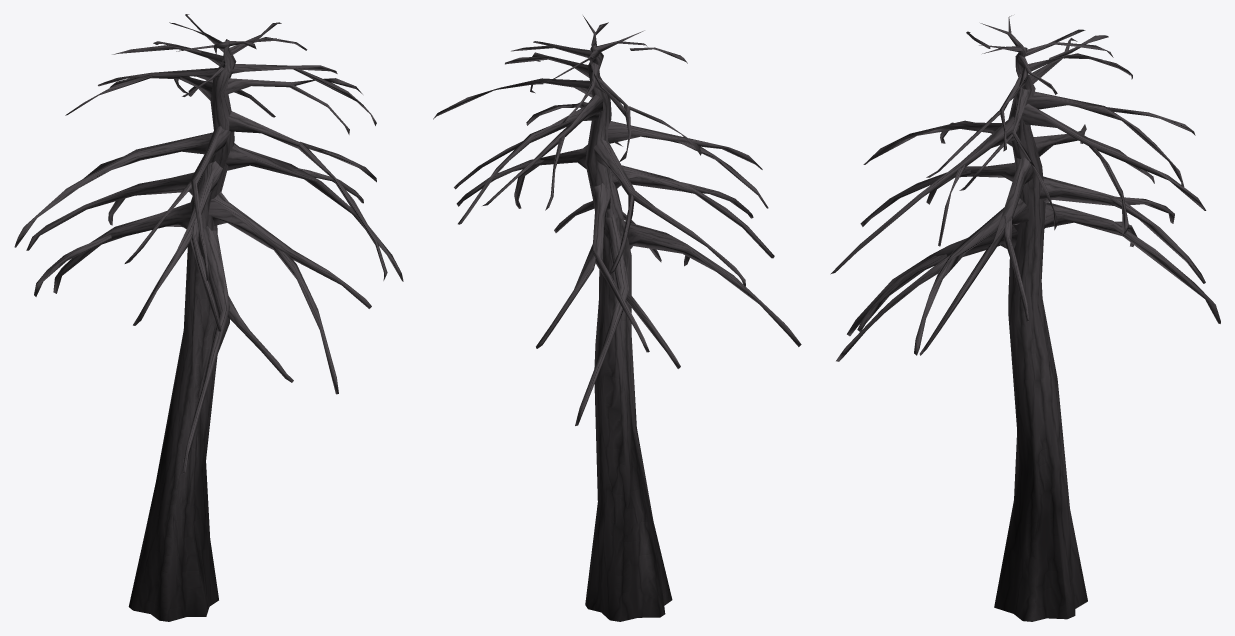
File: dead-tree-3-B1HqbbTH.glb
3 renders of one model, left to right at view 1: azimuth 30°, elevation 25°; view 2: azimuth 150°, elevation 25°; view 3: azimuth 270°, elevation 25°, orthographic. The views are drawn at different scales.
Parts seen in each view (by area): view 1: DeadTree_4; view 2: DeadTree_4; view 3: DeadTree_4.
Part boxes in pixels (left/top/right/bottom): DeadTree_4: left=14, top=14, right=403, bottom=621; DeadTree_4: left=433, top=16, right=801, bottom=621; DeadTree_4: left=830, top=15, right=1220, bottom=621.
Bounding box in the file's own units: 7.91 × 12.77 × 7.69.
1 material, 1 textured.
